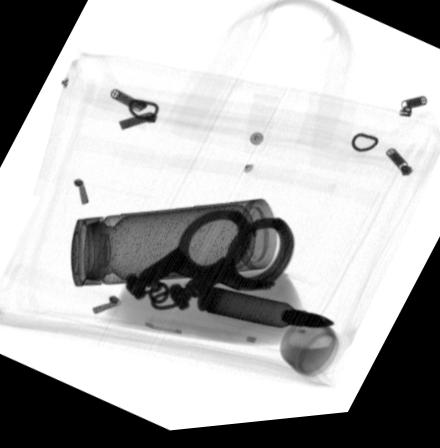Bullet: (196, 291, 334, 334)
HandCuffs: (121, 213, 294, 314)
